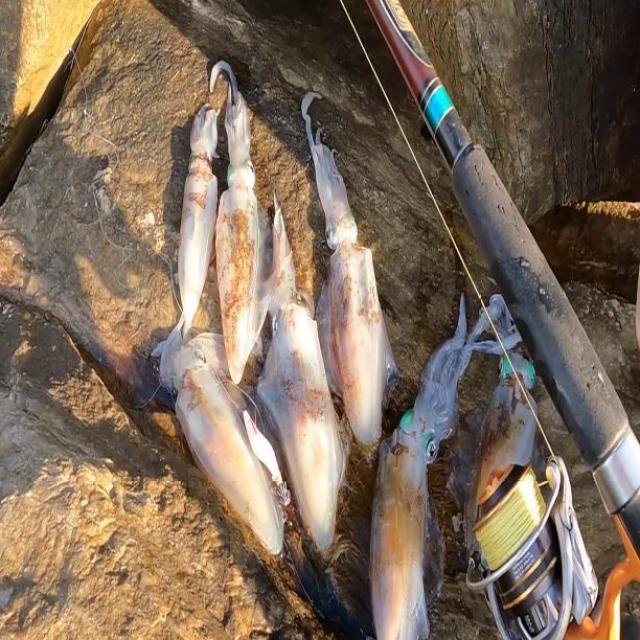SQUID: (296, 109, 414, 468), (153, 329, 294, 583), (371, 305, 466, 640), (210, 78, 289, 378), (161, 59, 219, 342)
